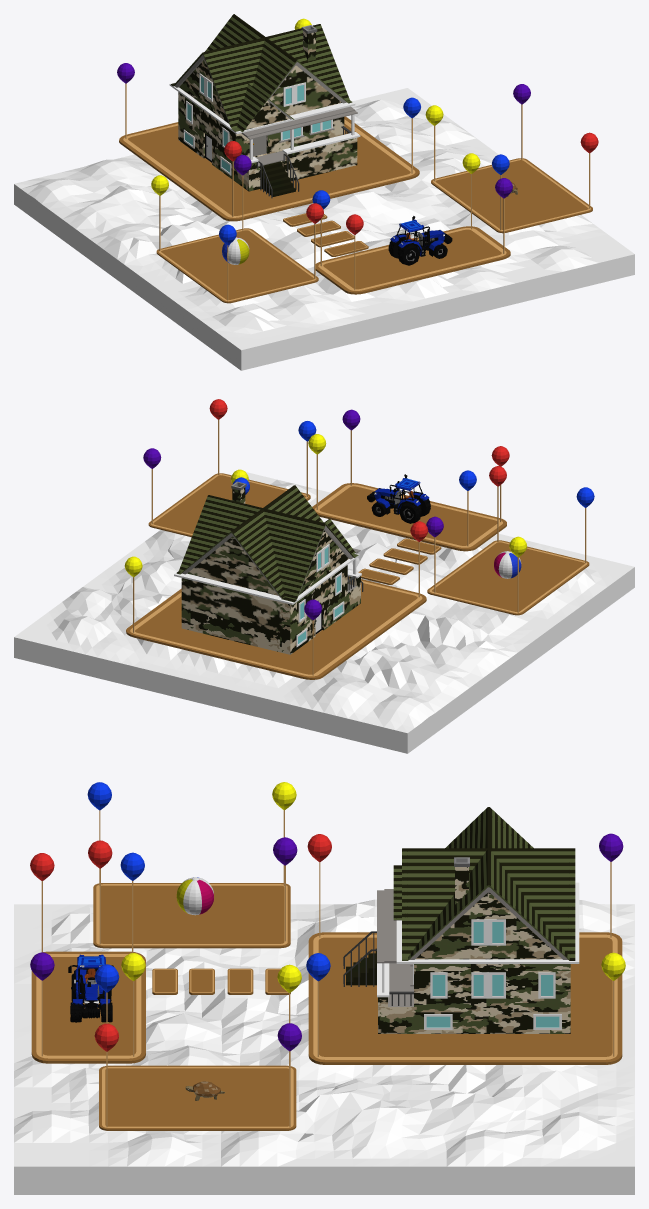
3 views of the same model, one above another, from view 1: azimuth 30°, elevation 25°; view 2: azimuth 150°, elevation 25°; view 3: azimuth 270°, elevation 25° (orthographic). The views are drawn at different scales.
Visible parts, largest first — view 1: Cube.013, Cube.001, VEHICLES_TRACTOR, OBJRANDOM_BEACHBALL; view 2: Cube.013, Cube.001, VEHICLES_TRACTOR, OBJRANDOM_BEACHBALL; view 3: Cube.013, Cube.001, VEHICLES_TRACTOR, OBJRANDOM_BEACHBALL.
Part boxes in pixels (left/top/right/bottom): Cube.013: left=14, top=18, right=634, bottom=370; Cube.001: left=169, top=14, right=360, bottom=198; VEHICLES_TRACTOR: left=388, top=216, right=452, bottom=265; OBJRANDOM_BEACHBALL: left=222, top=237, right=249, bottom=264; Cube.013: left=14, top=399, right=634, bottom=753; Cube.001: left=174, top=481, right=363, bottom=654; VEHICLES_TRACTOR: left=367, top=474, right=430, bottom=523; OBJRANDOM_BEACHBALL: left=494, top=551, right=521, bottom=578; Cube.013: left=14, top=782, right=634, bottom=1194; Cube.001: left=343, top=807, right=579, bottom=1033; VEHICLES_TRACTOR: left=68, top=954, right=113, bottom=1022; OBJRANDOM_BEACHBALL: left=176, top=877, right=213, bottom=915.
Size of the model in its own units: 4000 by 1843 by 4000.
Materials: 35 (3 with a texture image).
